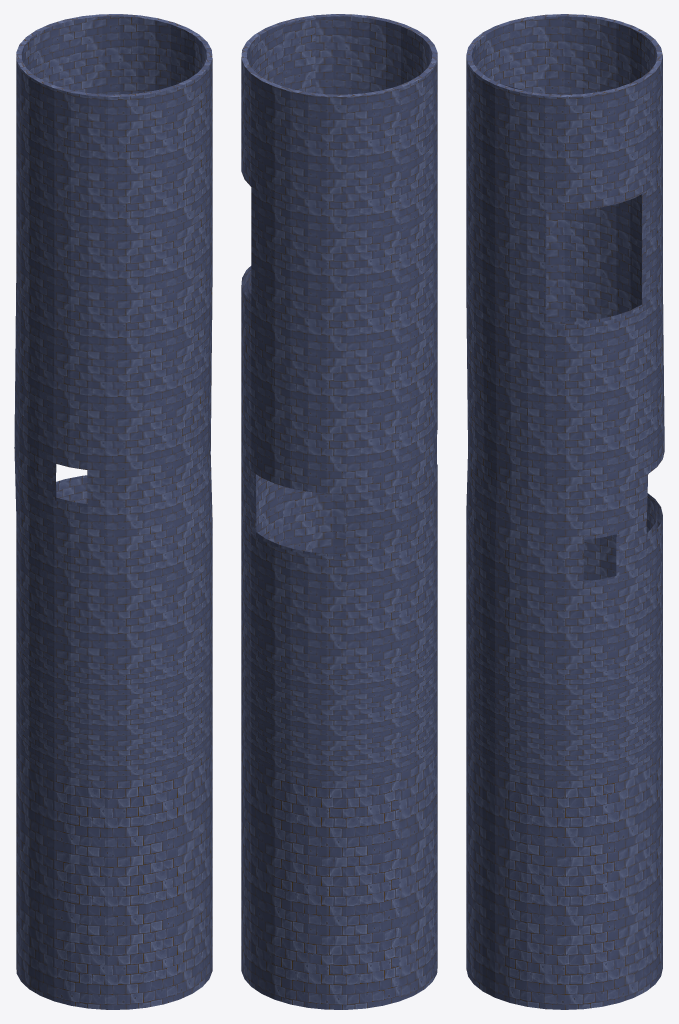
Rendered from RoudWallLP3.fbx.
The picture shows the model from 3 angles, left to right: view 1: azimuth 30°, elevation 25°; view 2: azimuth 150°, elevation 25°; view 3: azimuth 270°, elevation 25°; orthographic projection.
Parts seen in each view (by area): view 1: Roundwall_1.006; view 2: Roundwall_1.006; view 3: Roundwall_1.006.
Part boxes in pixels (left/top/right/bottom): Roundwall_1.006: left=14, top=14, right=212, bottom=1009; Roundwall_1.006: left=241, top=14, right=437, bottom=1009; Roundwall_1.006: left=466, top=14, right=664, bottom=1009.
Size of the model in its own units: 212 by 1080 by 213.
